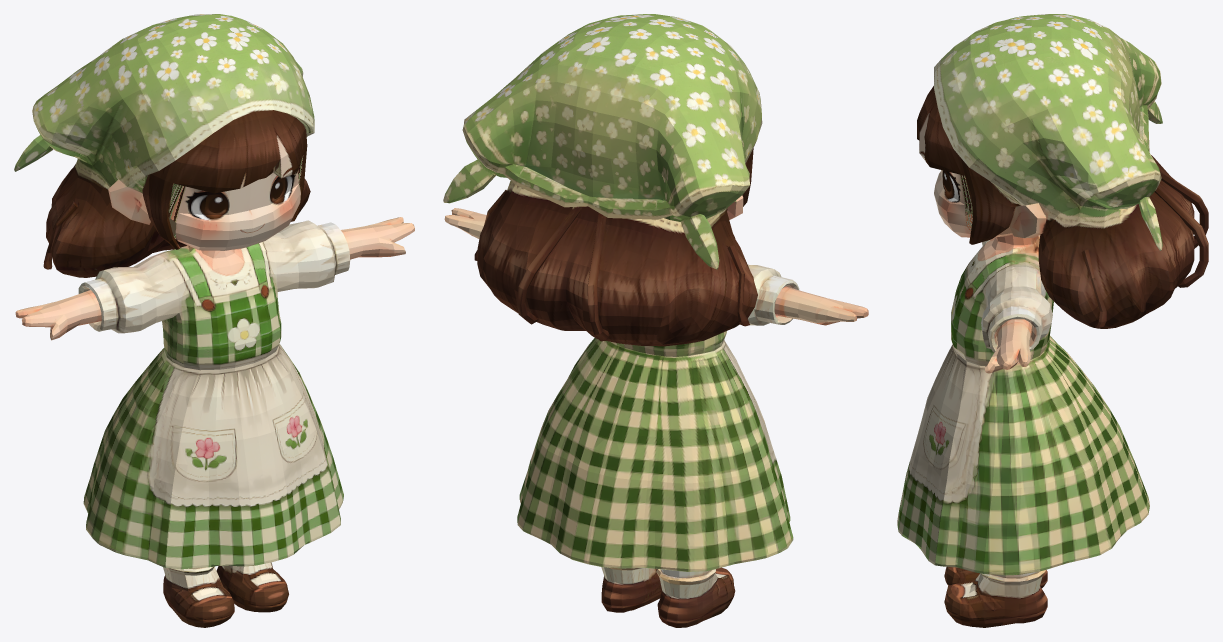
The model's file is Florista.fbx.
The picture shows the model from 3 angles, left to right: view 1: azimuth 30°, elevation 25°; view 2: azimuth 150°, elevation 25°; view 3: azimuth 270°, elevation 25°; orthographic projection. The views are drawn at different scales.
Parts seen in each view (by area): view 1: temp; view 2: temp; view 3: temp.
Part boxes in pixels (x1,y1,x2,y2): temp: [14, 14, 414, 627]; temp: [443, 14, 868, 627]; temp: [897, 14, 1208, 627].
Size of the model in its own units: 139 by 191 by 93.15.
1 material, 1 textured.
